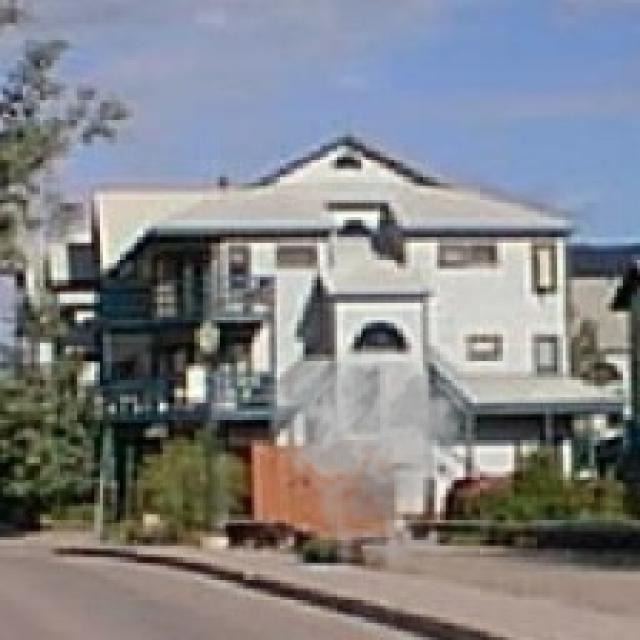smoke: (260, 343, 489, 580)
